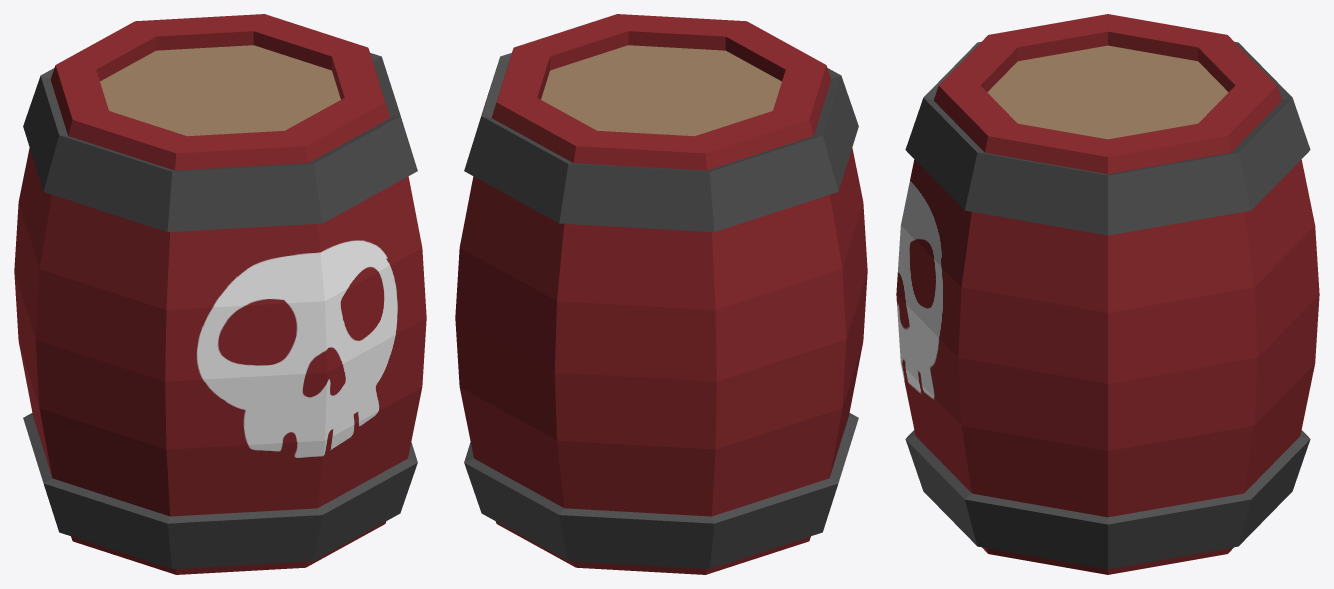
Rendered from ExplodingBarrel.fbx.
3 views of the same model, side by side, from view 1: azimuth 30°, elevation 25°; view 2: azimuth 150°, elevation 25°; view 3: azimuth 270°, elevation 25° (orthographic).
Parts seen in each view (by area): view 1: ExplodingBarrel; view 2: ExplodingBarrel; view 3: ExplodingBarrel.
Boxes of the visible parts, x1,y1,x2,y2 form: ExplodingBarrel: [14, 14, 426, 574]; ExplodingBarrel: [455, 14, 867, 574]; ExplodingBarrel: [896, 14, 1319, 574].
Size of the model in its own units: 200 by 218 by 200.
